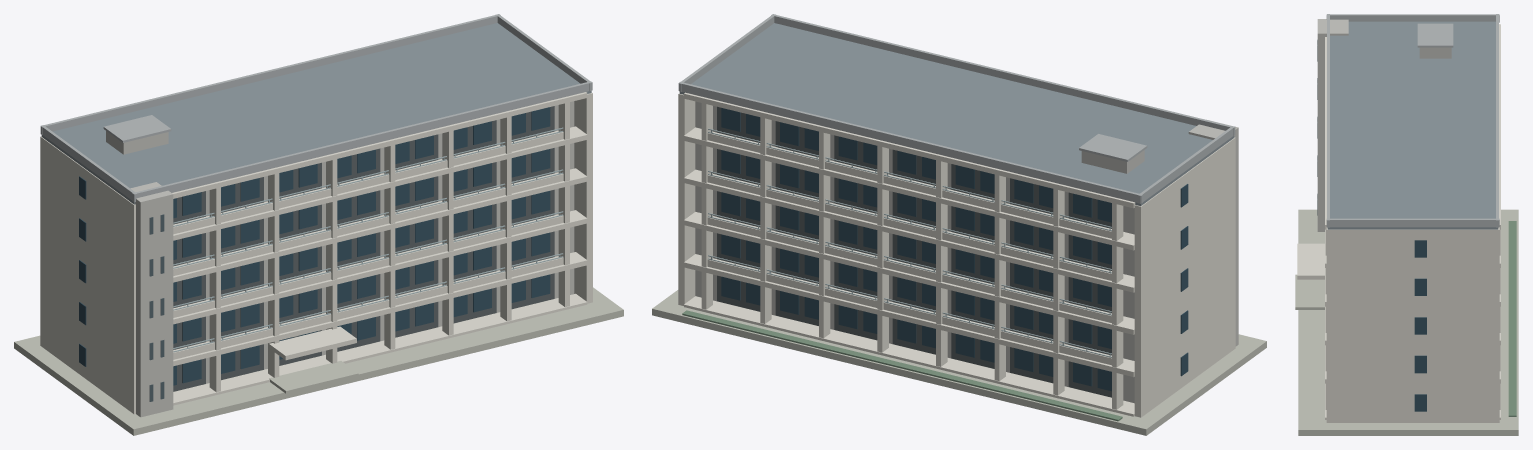
3 views of the same model, side by side, from view 1: azimuth 30°, elevation 25°; view 2: azimuth 150°, elevation 25°; view 3: azimuth 270°, elevation 25° (orthographic). The views are drawn at different scales.
Bounding box in the file's own units: 37.4 × 17.1 × 16.03.
